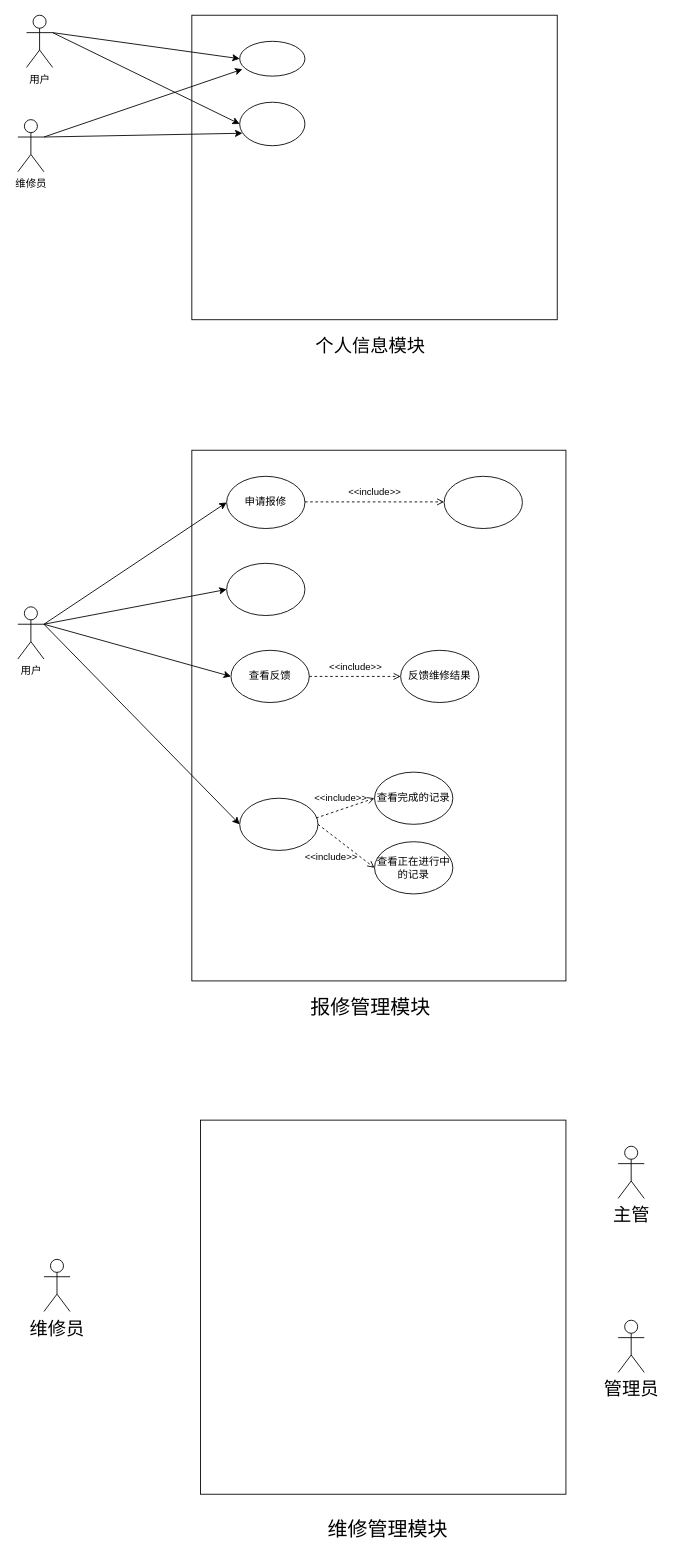
This 673x1557 diagram has some shape labels left out. The centre of each missing label's shape, as x and y in pixels:
"修改个人信息" belongs at point 272,123.
"填写报修信息" belongs at point 482,502.
"查看报修记录" belongs at point 278,823.
"查看用户信息" belongs at point 272,58.
"跟踪报修进度" belongs at point 265,589.
